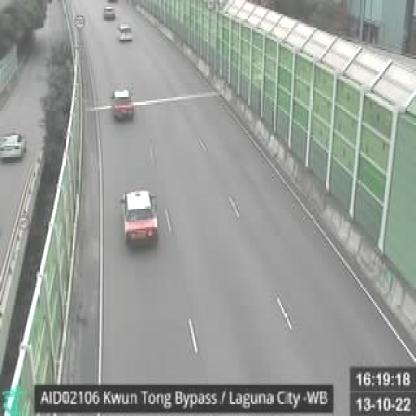Car: (121, 189, 159, 250), (0, 130, 27, 162), (112, 85, 134, 124), (117, 21, 133, 42), (103, 4, 115, 18)
